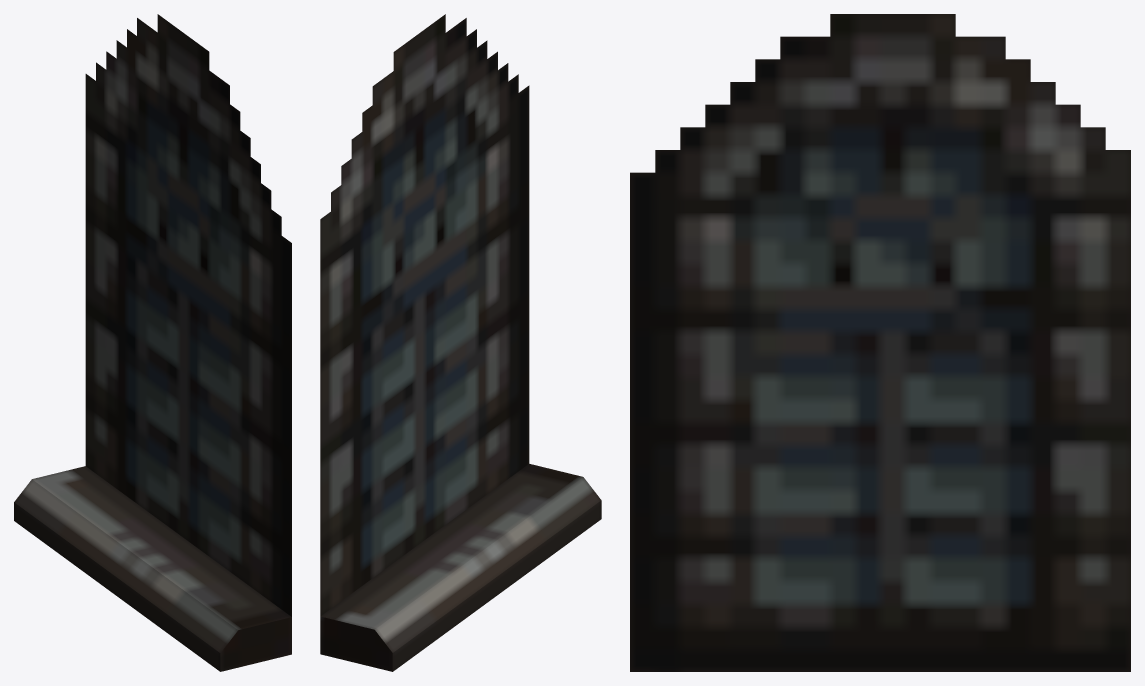
The model's file is EnvBdgMD_City_A_Indoor_Window_A.FBX.
The picture shows the model from 3 angles, left to right: view 1: azimuth 30°, elevation 25°; view 2: azimuth 150°, elevation 25°; view 3: azimuth 270°, elevation 25°; orthographic projection. The views are drawn at different scales.
Visible parts, largest first — view 1: EnvBdgMD_City_A_Indoor_Window_A; view 2: EnvBdgMD_City_A_Indoor_Window_A; view 3: EnvBdgMD_City_A_Indoor_Window_A.
Boxes of the visible parts, x1,y1,x2,y2 form: EnvBdgMD_City_A_Indoor_Window_A: (14,14,291,671); EnvBdgMD_City_A_Indoor_Window_A: (320,14,601,671); EnvBdgMD_City_A_Indoor_Window_A: (630,14,1130,671).
Size of the model in its own units: 20 by 145 by 100.
